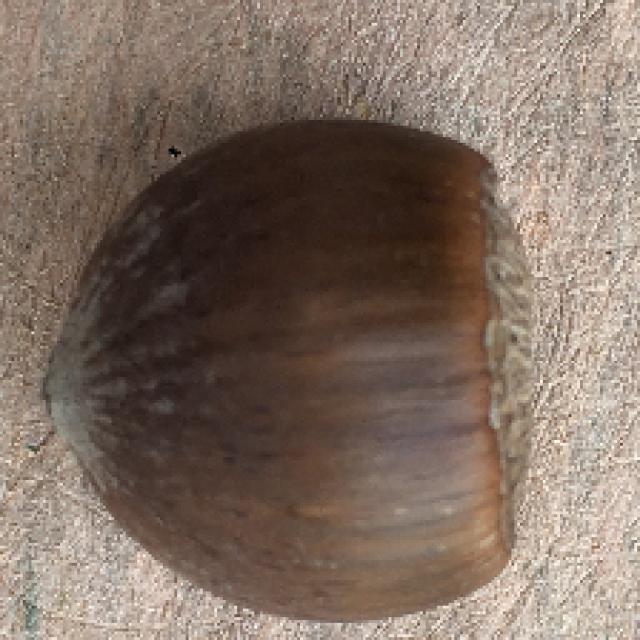damagedHazelnut: (35, 119, 542, 617)
